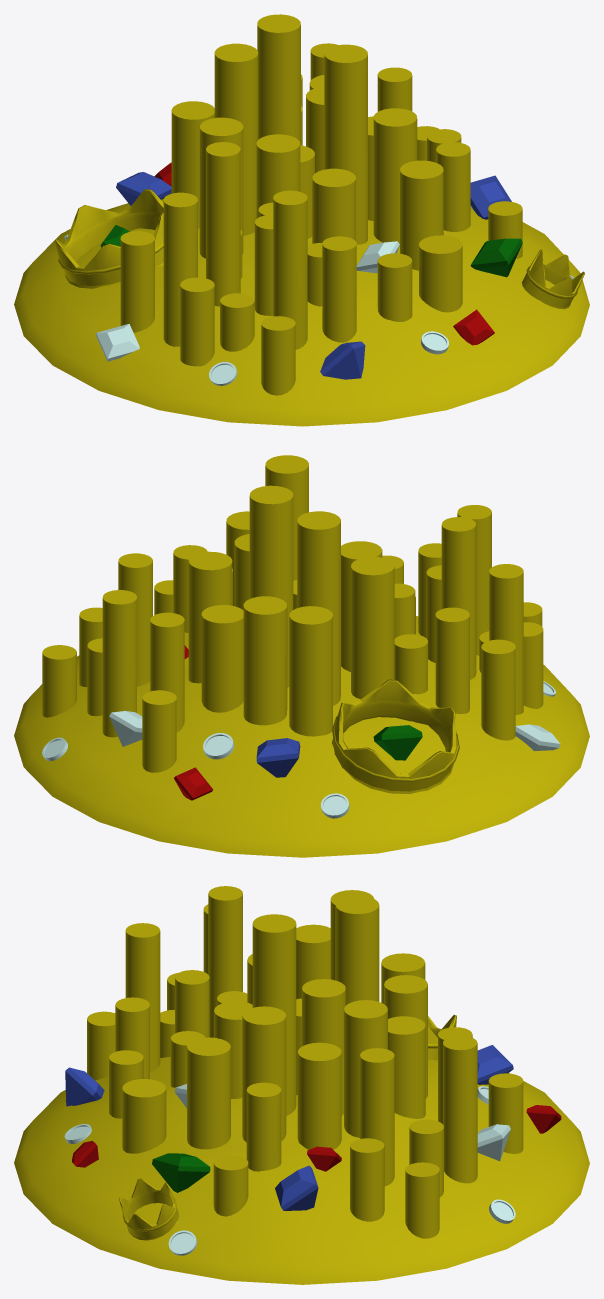
Rendered from SM_TreasurePile.fbx.
3 renders of one model, top to bottom at view 1: azimuth 30°, elevation 25°; view 2: azimuth 150°, elevation 25°; view 3: azimuth 270°, elevation 25°, orthographic.
Visible parts, largest first — view 1: group2_pCylinder29; view 2: group2_pCylinder29; view 3: group2_pCylinder29.
Part boxes in pixels (x1,y1,x2,y2): group2_pCylinder29: (14,14,589,426); group2_pCylinder29: (14,455,589,857); group2_pCylinder29: (14,886,589,1284).
Size of the model in its own units: 321 by 160 by 320.
